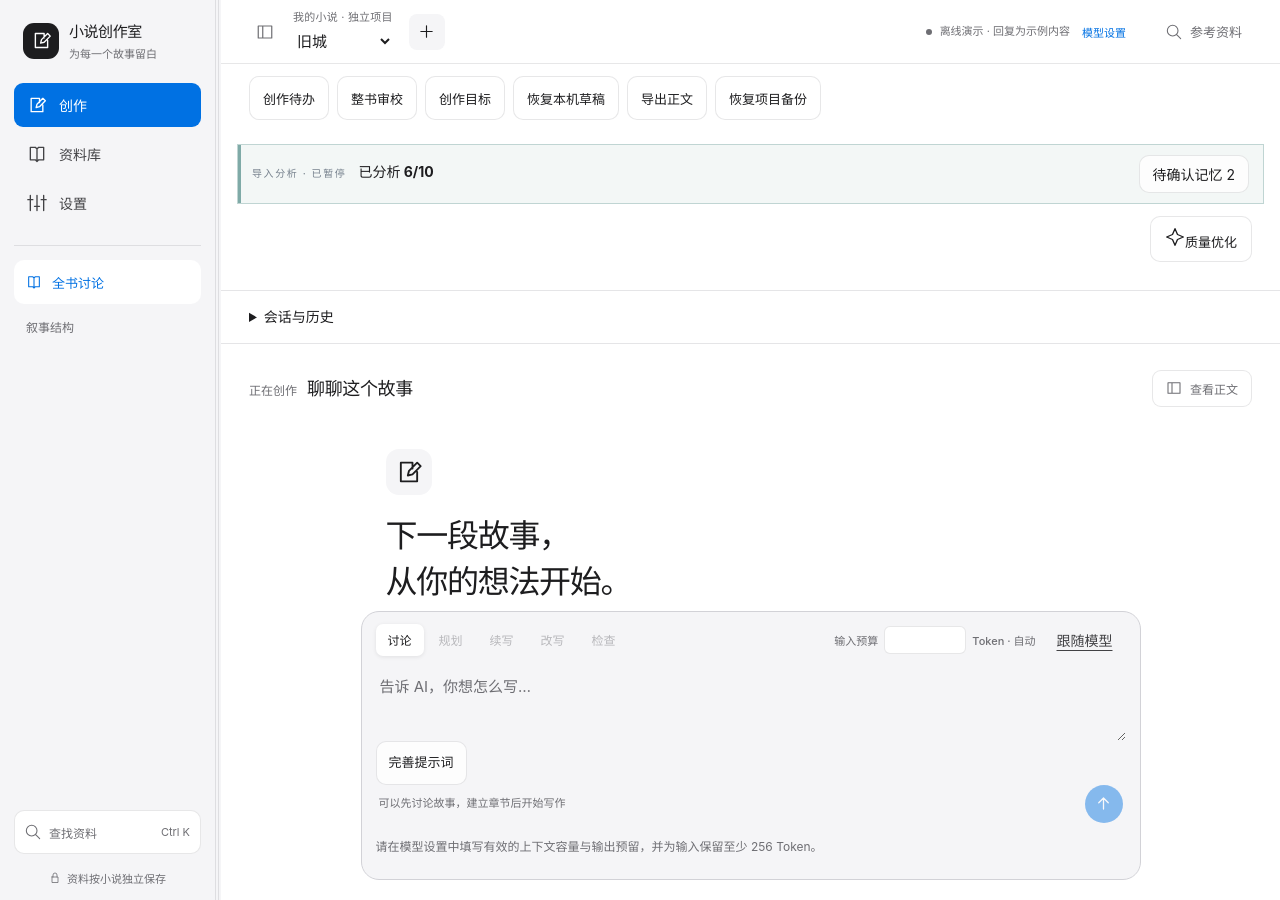
it: keeps the project usable when the model is unavailable and opens progress/review from a compact card with a pending count
Check: the text "已分析 6/10" is shown, box [358, 161, 434, 181]
Check: the text box named "给 AI 的消息" is enabled, box [376, 658, 1126, 741]
Step 1. Click the button with aria-label "审核待确认记忆" → (1194, 174), box [1138, 155, 1249, 193]
(page scrolled)
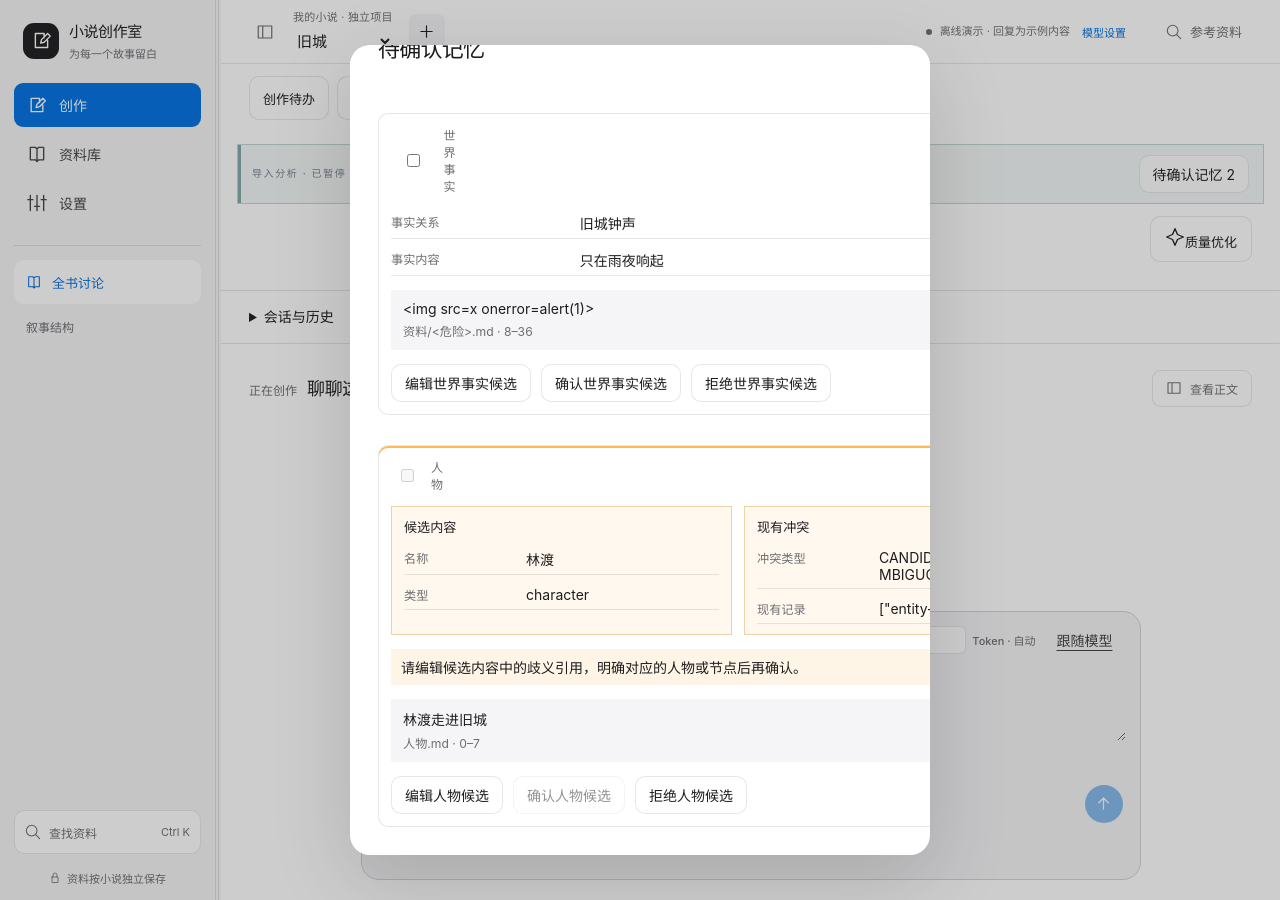
Check: the text "林渡走进旧城" is shown, box [403, 711, 487, 728]
Check: the button "编辑人物候选" is enabled, box [391, 776, 503, 814]
